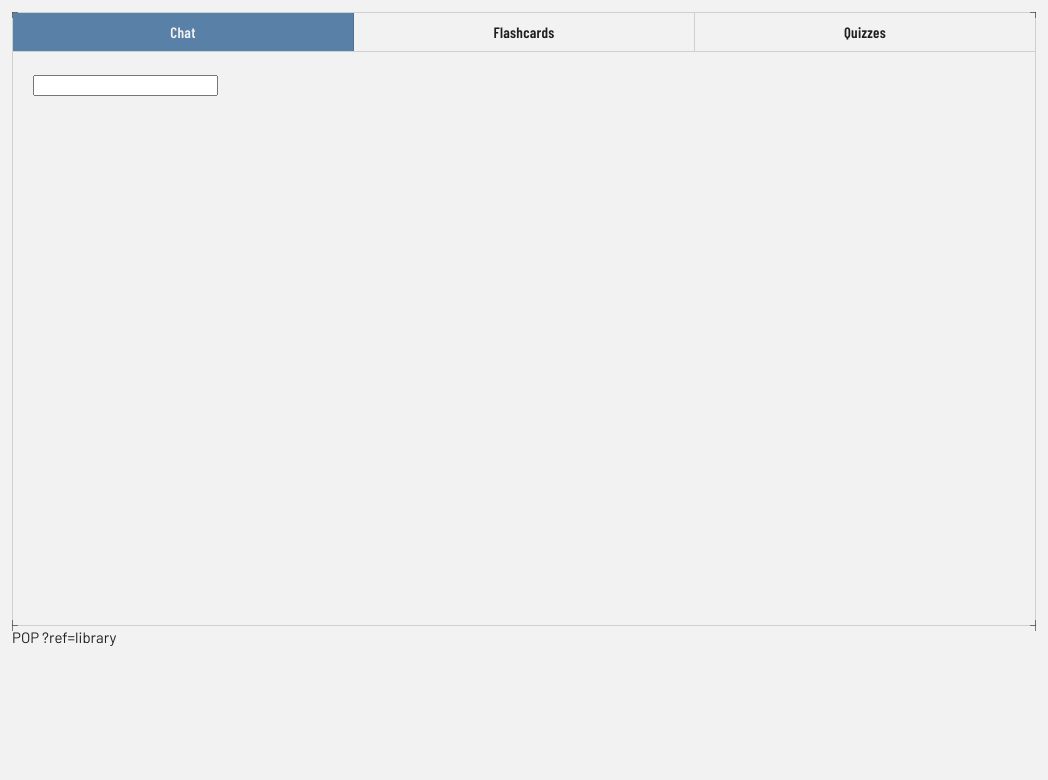
it: writes the tab to the URL, replacing history and keeping other params
The width and height of the screenshot is (1048, 780).
Click the tab "Quizzes" at coordinates (865, 32), box [695,13,1035,51]
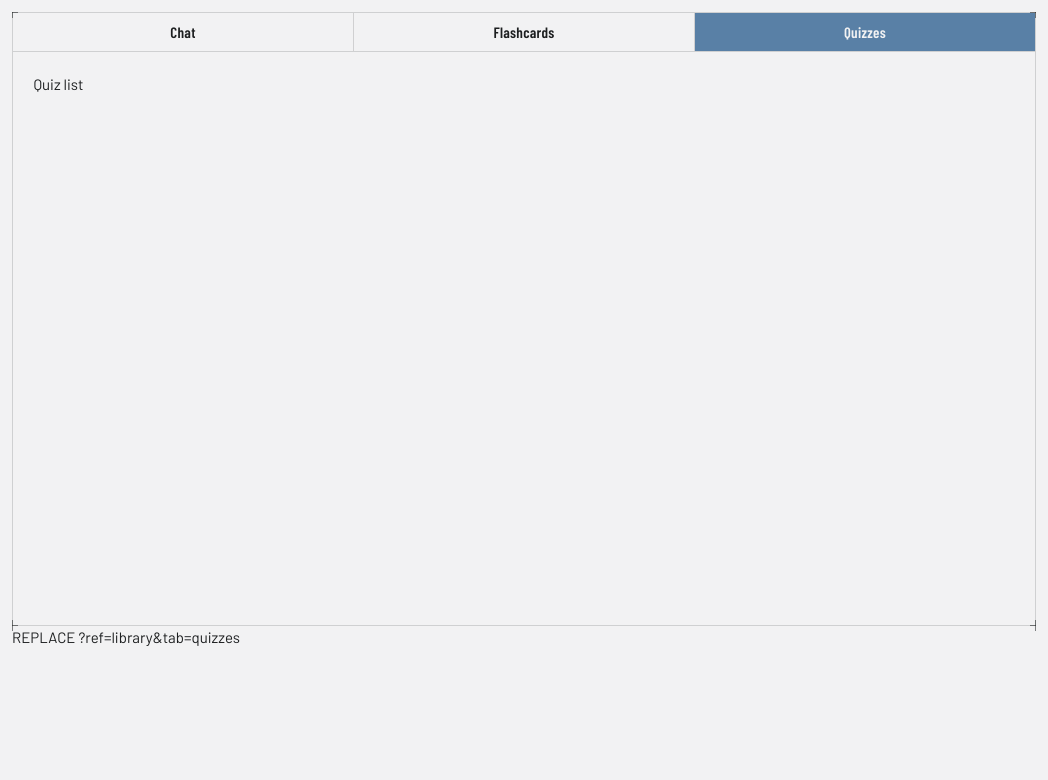
expect the text with test id "location" reads "REPLACE ?ref=library&tab=quizzes": met, box [12,628,240,646]
